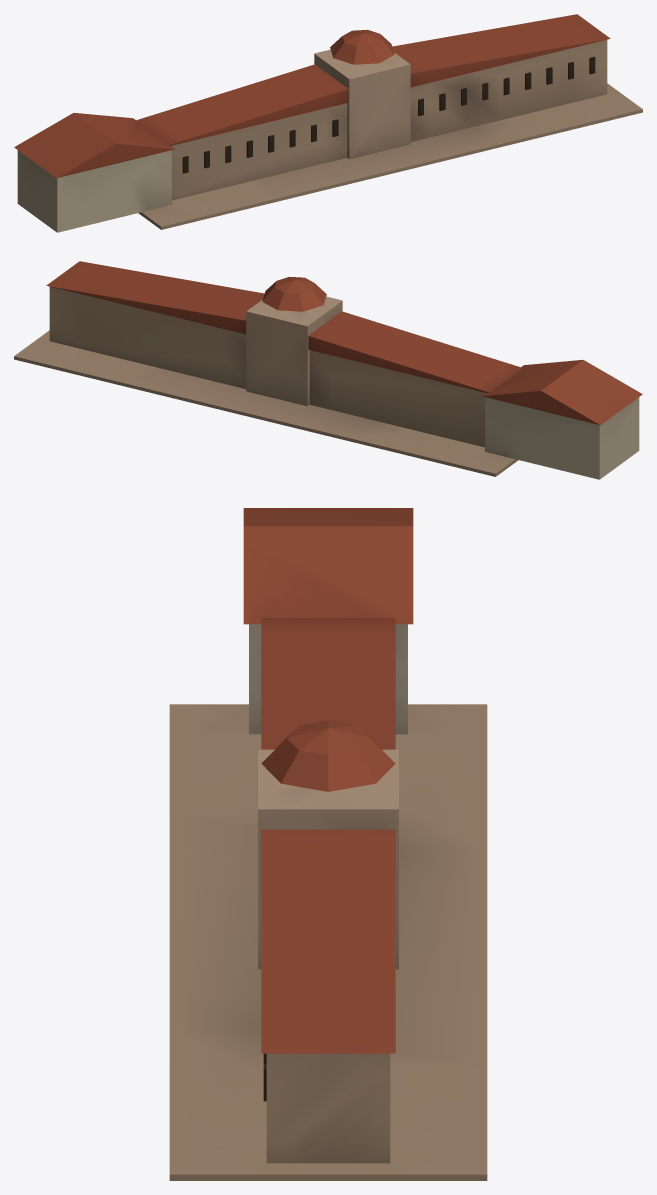
File: ospedale-santo-spirito.glb
3 views of the same model, one above another, from view 1: azimuth 30°, elevation 25°; view 2: azimuth 150°, elevation 25°; view 3: azimuth 270°, elevation 25° (orthographic). The views are drawn at different scales.
Visible parts, largest first — view 1: p2_roof, p1_wards, p0_ground; view 2: p2_roof, p1_wards, p0_ground; view 3: p0_ground, p2_roof, p1_wards.
Boxes of the visible parts, <box> form: p2_roof: <box>14,14,610,232</box>; p1_wards: <box>171,39,607,200</box>; p0_ground: <box>138,83,642,229</box>; p2_roof: <box>46,261,642,479</box>; p1_wards: <box>49,286,485,447</box>; p0_ground: <box>14,330,518,476</box>; p0_ground: <box>169,704,487,1180</box>; p2_roof: <box>243,508,413,1053</box>; p1_wards: <box>258,749,398,1163</box>.
Bounding box in the file's own units: 149 × 27.2 × 36.
